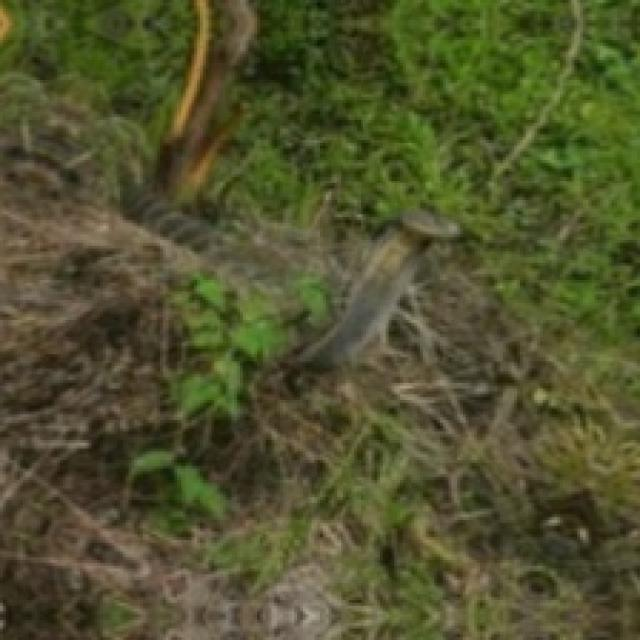king cobra: (280, 211, 460, 366), (283, 211, 457, 366), (154, 0, 254, 203)
